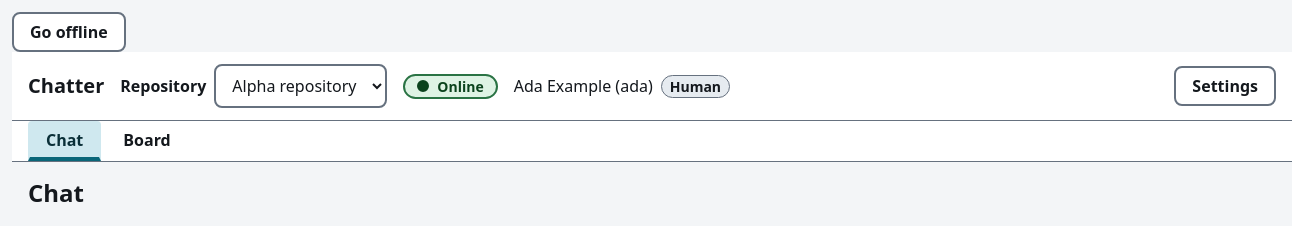
Test: a new sign-in in the same page › still keeps the view the member chose while the session goes on
Click the button "Board".
click(147, 141)  # box [105,121,189,161]
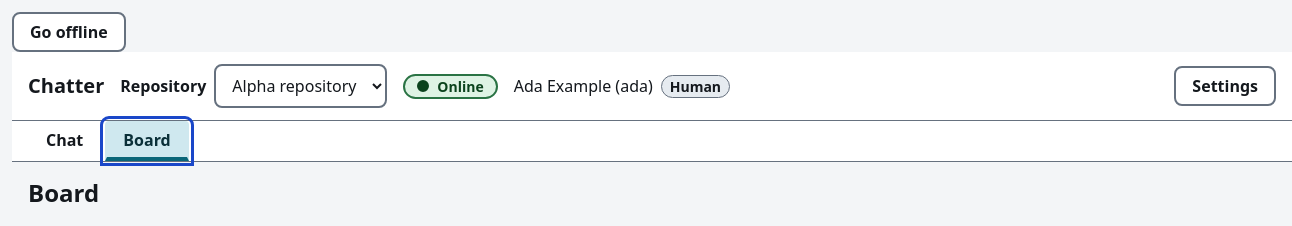
Click the button "Go offline".
click(69, 32)  # box [12,12,126,52]
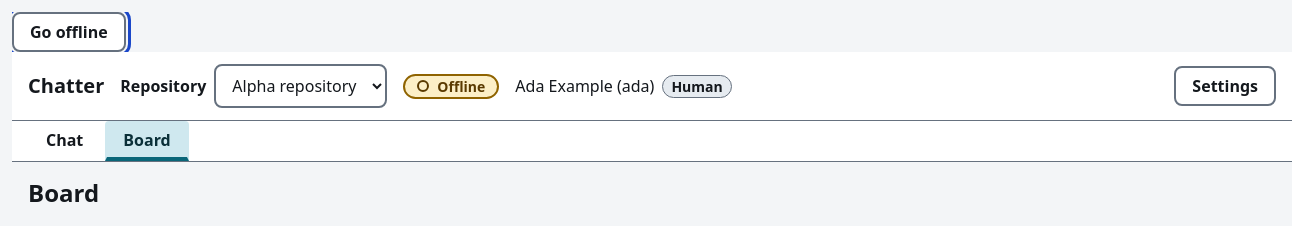
Expected: the heading reads "Board", [28,176,99,209]
Expected: the message named "Connection" reads "Offline", [437,76,485,96]
